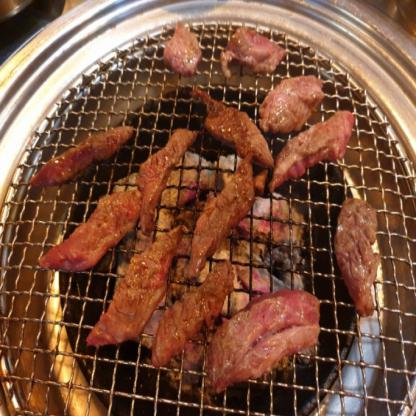Carne: (81, 224, 183, 347), (182, 155, 257, 278), (42, 188, 136, 271), (266, 100, 354, 185), (144, 279, 227, 364), (128, 122, 192, 215), (197, 93, 274, 156), (333, 200, 374, 310)
